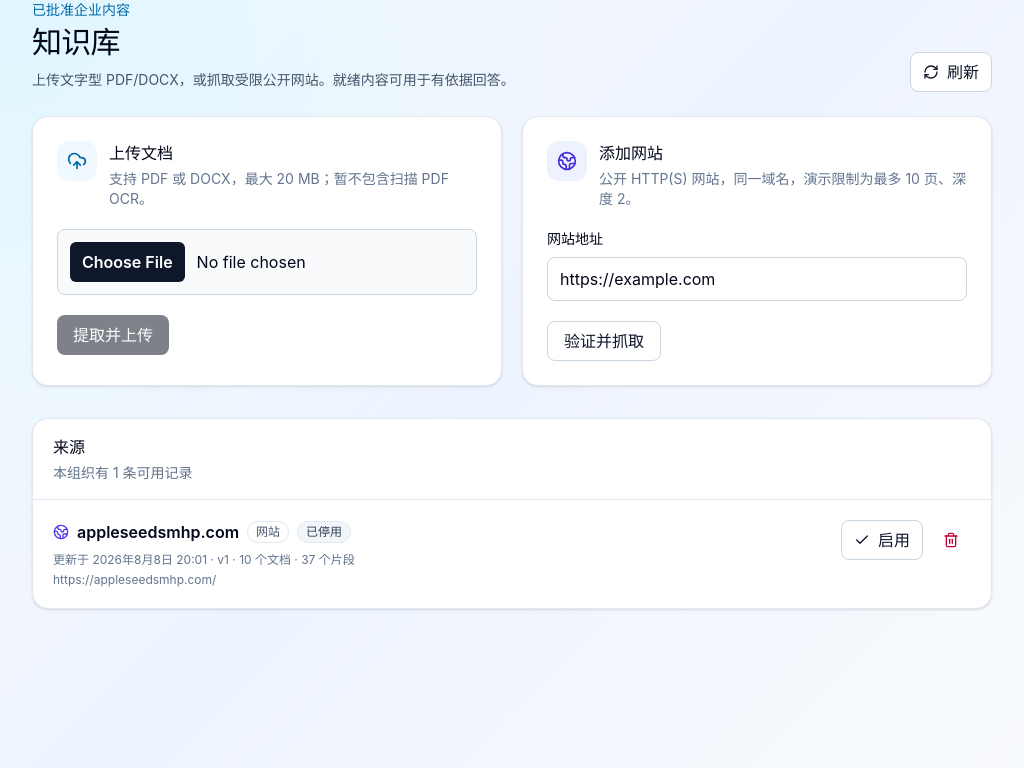
knowledge workspace source management › deletes only after explicit confirmation and removes the source immediately
Click the button named "删除 appleseedsmhp.com". click: (951, 540)
box: top-left (931, 520), bottom-right (971, 560)
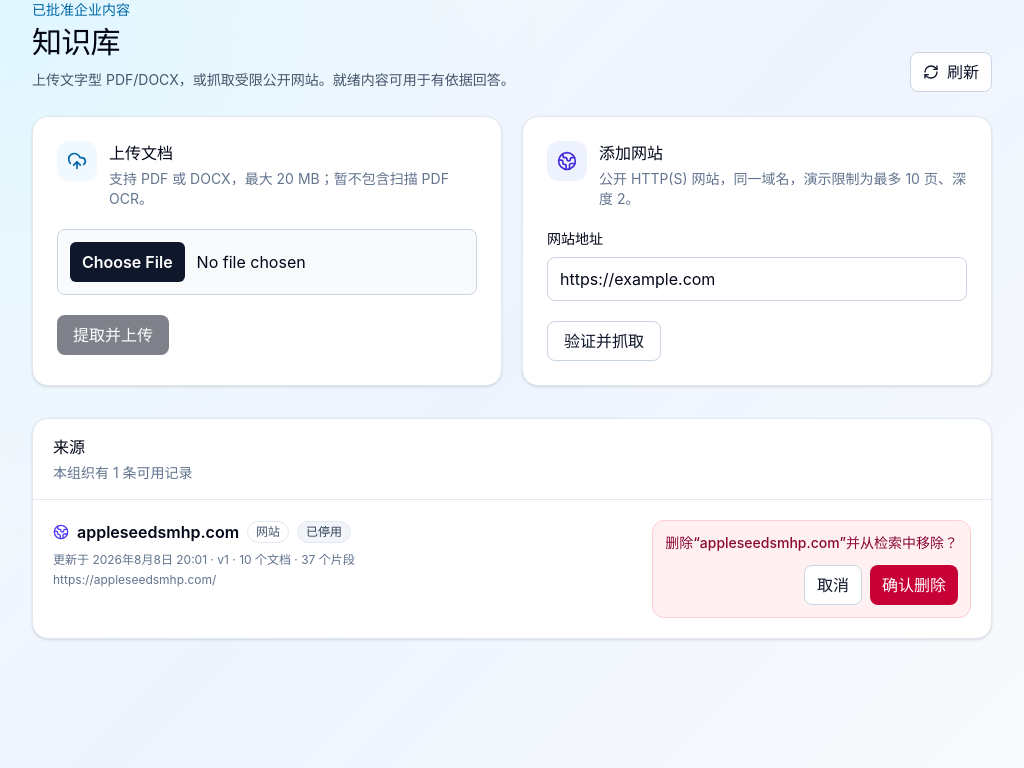
Click the button "确认删除". click: (914, 585)
box: top-left (870, 565), bottom-right (958, 605)
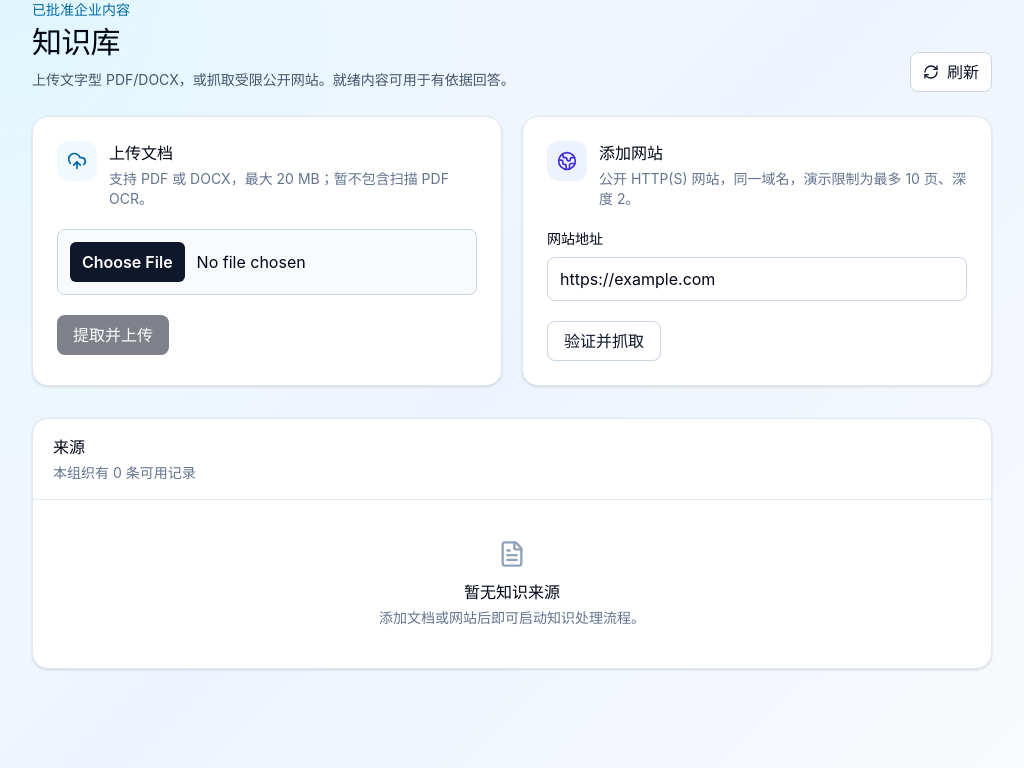
Check: the text "暂无知识来源" is shown, box top-left (464, 582), bottom-right (560, 602)
